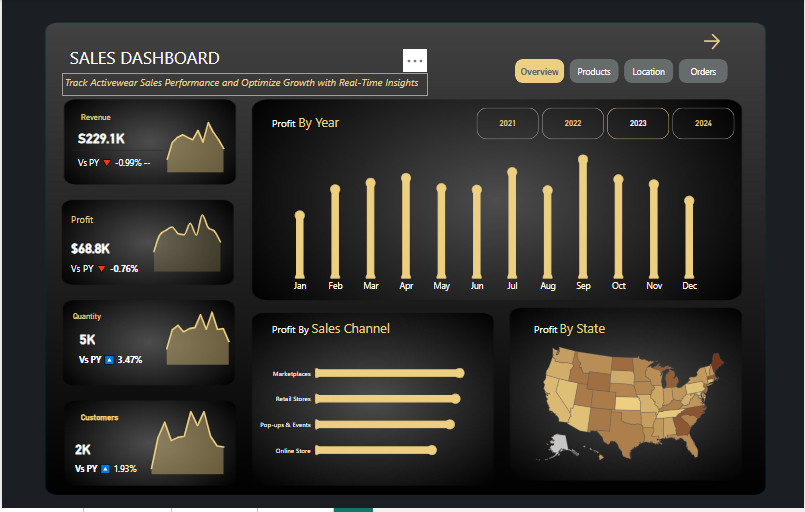

What the dashboard file says about the page in this screenshot:
{"tool":"powerbi","page":{"name":"Overview","canvas":[1500,950],"ordinal":0},"visuals":[{"type":"columnChart","title":"PROFIT BY YEAR","fields":{"Category":["Calendar.Month Short"],"Y":["Sum(Wears.Profit)"]},"box":[498.6,266.1,844.3,289.1],"z":0},{"type":"group","id":"g1","title":"Group 2","box":[113.1,375,344.1,138.6],"z":0,"group":"g4"},{"type":"group","id":"g2","title":"Group 4","box":[125.7,205.3,333.1,121.5],"z":1000,"group":"g4"},{"type":"cardVisual","fields":{"Data":["Wears.TotalProfit"]},"box":[113.1,379.8,162.3,133.8],"z":1000,"group":"g6"},{"type":"barChart","title":"Profit by Sales Channel","fields":{"Category":["Wears.Sales Channel"],"Y":["Sum(Wears.Profit)"]},"box":[471.4,647.3,410.6,238.8],"z":1000},{"type":"group","id":"g3","title":"Group 1","box":[127.8,540.5,343.6,163.4],"z":2000,"group":"g4"},{"type":"shapeMap","title":" Profit by State","fields":{"Category":["Wears.State"],"Value":["Sum(Wears.Profit)"]},"box":[974.2,622.2,400.1,264],"z":2000},{"type":"group","id":"g4","title":"Group 6","box":[113.1,205.3,358.2,498.6],"z":3000},{"type":"cardVisual","fields":{"Data":["Sum(Wears.Revenue)"]},"box":[125.7,222.1,180.2,104.7],"z":3000,"group":"g2"},{"type":"areaChart","fields":{"Y":["Sum(Wears.Revenue)"],"Category":["Calendar.Month No"]},"box":[284.9,205.3,173.9,121.5],"z":4000,"group":"g2"},{"type":"group","id":"g5","title":"Group 3","box":[119.4,752.1,345.7,171.8],"z":4000},{"type":"cardVisual","fields":{"Data":["Wears.TotalCustomers"]},"box":[119.4,781.4,169.7,142.5],"z":4000,"group":"g5"},{"type":"textbox","box":[121.5,79.6,303.8,56.6],"z":5000},{"type":"cardVisual","fields":{"Data":["Wears.TotalQuantity"]},"box":[127.8,590.8,173.9,113.1],"z":5000,"group":"g3"},{"type":"textbox","box":[113.1,136.2,683,44],"z":6000},{"type":"textbox","box":[127.8,578.2,136.2,35.6],"z":6000,"group":"g3"},{"type":"areaChart","fields":{"Category":["Calendar.Month No"],"Y":["Wears.TotalCustomers"]},"box":[251.4,752.1,213.7,140.4],"z":6000,"group":"g5"},{"type":"advancedSlicerVisual","fields":{"Values":["Calendar.Year"]},"box":[882,196.9,492.3,69.1],"z":7000},{"type":"textbox","box":[142.5,205.3,163.4,35.6],"z":7000,"group":"g2"},{"type":"stackedAreaChart","fields":{"Category":["Calendar.Month No"],"Y":["Wears.TotalProfit"]},"box":[258.1,375,199.2,137.2],"z":7000,"group":"g6"},{"type":"textbox","box":[498.6,205.3,278.6,69.1],"z":8000},{"type":"areaChart","fields":{"Y":["Sum(Wears.Quantity)"],"Category":["Calendar.Month No"]},"box":[282.8,540.5,188.5,146.6],"z":9000,"group":"g3"},{"type":"textbox","box":[498.6,590.8,251.4,56.6],"z":9000},{"type":"textbox","box":[988.8,590.8,318.4,56.6],"z":10000},{"type":"textbox","box":[142.4,766.8,90.1,35.6],"z":10000,"group":"g5"},{"type":"group","id":"g6","title":"Group 5","box":[113.1,375,344.1,138.6],"z":10002,"group":"g1"},{"type":"actionButton","box":[1307.3,58.7,100.6,39.8],"z":11000},{"type":"pageNavigator","box":[959.5,111,398,48.2],"z":12000}]}

Visuals, with their boxes in screenshot pixels (x1, y1, x2, y2), scaled from the page's 1500x950 canvas onto the 805x512 screenshot:
"PROFIT BY YEAR" columnChart: pyautogui.locateOnScreen(268, 143, 721, 299)
"Group 2" group: pyautogui.locateOnScreen(61, 202, 245, 277)
"Group 4" group: pyautogui.locateOnScreen(67, 111, 246, 176)
cardVisual - Wears.TotalProfit: pyautogui.locateOnScreen(61, 205, 148, 277)
"Profit by Sales Channel" barChart: pyautogui.locateOnScreen(253, 349, 473, 478)
"Group 1" group: pyautogui.locateOnScreen(69, 291, 253, 379)
" Profit by State" shapeMap: pyautogui.locateOnScreen(523, 335, 738, 478)
"Group 6" group: pyautogui.locateOnScreen(61, 111, 253, 379)
cardVisual - Sum(Wears.Revenue): pyautogui.locateOnScreen(67, 120, 164, 176)
areaChart - Sum(Wears.Revenue) x Calendar.Month No: pyautogui.locateOnScreen(153, 111, 246, 176)
"Group 3" group: pyautogui.locateOnScreen(64, 405, 250, 498)
cardVisual - Wears.TotalCustomers: pyautogui.locateOnScreen(64, 421, 155, 498)
textbox: pyautogui.locateOnScreen(65, 43, 228, 73)
cardVisual - Wears.TotalQuantity: pyautogui.locateOnScreen(69, 318, 162, 379)
textbox: pyautogui.locateOnScreen(61, 73, 427, 97)
textbox: pyautogui.locateOnScreen(69, 312, 142, 331)
areaChart - Calendar.Month No x Wears.TotalCustomers: pyautogui.locateOnScreen(135, 405, 250, 481)
advancedSlicerVisual - Calendar.Year: pyautogui.locateOnScreen(473, 106, 738, 143)
textbox: pyautogui.locateOnScreen(76, 111, 164, 130)
stackedAreaChart - Calendar.Month No x Wears.TotalProfit: pyautogui.locateOnScreen(139, 202, 245, 276)
textbox: pyautogui.locateOnScreen(268, 111, 417, 148)
areaChart - Sum(Wears.Quantity) x Calendar.Month No: pyautogui.locateOnScreen(152, 291, 253, 370)
textbox: pyautogui.locateOnScreen(268, 318, 402, 349)
textbox: pyautogui.locateOnScreen(531, 318, 702, 349)
textbox: pyautogui.locateOnScreen(76, 413, 125, 432)
"Group 5" group: pyautogui.locateOnScreen(61, 202, 245, 277)
actionButton: pyautogui.locateOnScreen(702, 32, 756, 53)
pageNavigator: pyautogui.locateOnScreen(515, 60, 729, 86)
